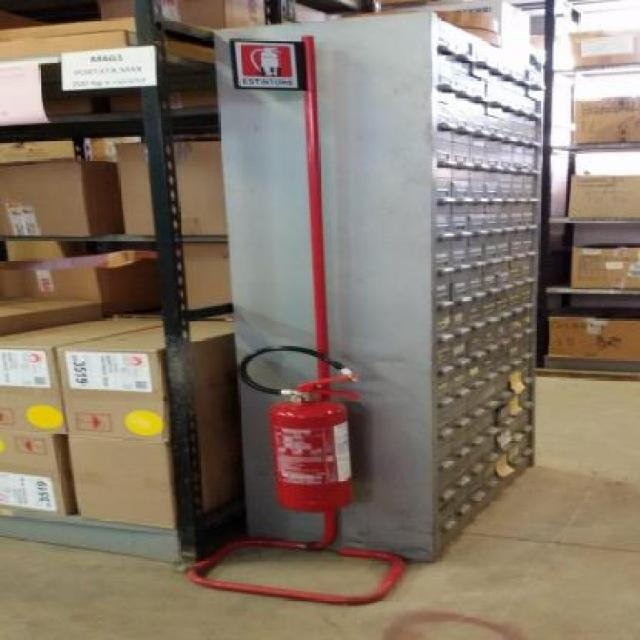fire extinguisher: (240, 345, 362, 511)
